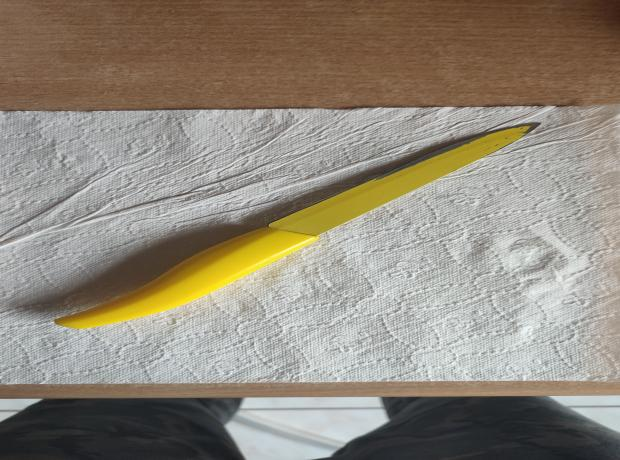metal: (53, 122, 542, 328)
